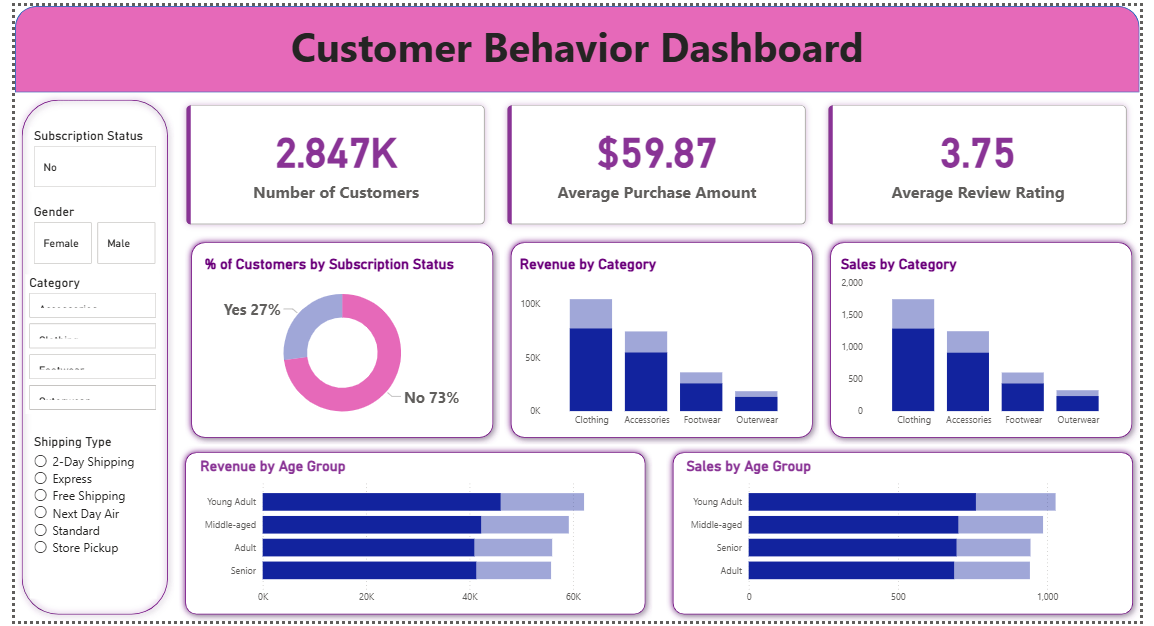

The dashboard page shown, as its layout file describes it:
{"tool":"powerbi","page":{"name":"Page 1","canvas":[1500,820],"ordinal":0},"visuals":[{"type":"cardVisual","fields":{"Data":["public customer.Number of Customers","public customer.Average Purchase Amount","public customer.Average Review Rating"]},"box":[212.9,115.3,1286.5,191.6],"z":2000},{"type":"shape","box":[218.3,585.6,631.7,234.2],"z":2500,"group":"g1"},{"type":"shape","box":[0,0,1499.4,115.3],"z":3000},{"type":"textbox","box":[0,12.4,1499.4,102.9],"z":4000},{"type":"shape","box":[225.4,307,420.5,278.6],"z":5000},{"type":"donutChart","title":"% of Customers by Subscription Status","fields":{"Category":["public customer.subscription_status"],"Y":["CountNonNull(public customer.customer_id)"]},"box":[248.4,331.8,376.2,237.8],"z":6000},{"type":"shape","box":[1078.9,307,420.5,278.6],"z":7000},{"type":"shape","box":[652.1,307,420.5,278.6],"z":8000},{"type":"clusteredColumnChart","title":"Revenue by Category","fields":{"Y":["Sum(public customer.purchase_amount)"],"Category":["public customer.category"]},"box":[667.2,331.8,385.1,237.8],"z":9000},{"type":"clusteredColumnChart","title":"Sales by Category","fields":{"Y":["CountNonNull(public customer.customer_id)"],"Category":["public customer.category"]},"box":[1096.6,331.8,385.1,237.8],"z":10000},{"type":"shape","box":[0,115.3,212.9,704.5],"z":11000},{"type":"advancedSlicerVisual","fields":{"Values":["public customer.subscription_status"]},"box":[19.5,161.5,173.9,85.2],"z":12000},{"type":"advancedSlicerVisual","fields":{"Values":["public customer.gender"]},"box":[19.5,264.4,173.9,85.2],"z":13000},{"type":"advancedSlicerVisual","fields":{"Values":["public customer.category"]},"box":[14.2,358.4,179.2,186.3],"z":14000},{"type":"listSlicer","fields":{"Values":["public customer.shipping_type"]},"box":[19.5,569.6,168.6,220],"z":15000},{"type":"shape","box":[867.7,585.6,631.7,234.2],"z":16000},{"type":"clusteredBarChart","title":"Sales by Age Group","fields":{"Y":["CountNonNull(public customer.customer_id)"],"Category":["public customer.age_group"]},"box":[890.8,601.5,585.6,204.1],"z":17000},{"type":"clusteredBarChart","title":"Revenue by Age Group","fields":{"Y":["Sum(public customer.purchase_amount)"],"Category":["public customer.age_group"]},"box":[241.4,601.6,585.6,204.1],"z":17500,"group":"g1"},{"type":"group","id":"g1","title":"Group 1","box":[218.3,585.6,631.7,234.2],"z":17501}]}

Visuals, with their boxes in screenshot pixels (x1, y1, x2, y2), scaled from the page's 1500x820 canvas onto the 1154x626 screenshot:
cardVisual - public customer.Number of Customers x public customer.Average Purchase Amount: [164,88,1153,234]
shape: [168,447,654,625]
shape: [0,0,1153,88]
textbox: [0,9,1153,88]
shape: [173,234,497,447]
"% of Customers by Subscription Status" donutChart: [191,253,481,435]
shape: [830,234,1153,447]
shape: [502,234,825,447]
"Revenue by Category" clusteredColumnChart: [513,253,810,435]
"Sales by Category" clusteredColumnChart: [844,253,1140,435]
shape: [0,88,164,625]
advancedSlicerVisual - public customer.subscription_status: [15,123,149,188]
advancedSlicerVisual - public customer.gender: [15,202,149,267]
advancedSlicerVisual - public customer.category: [11,274,149,416]
listSlicer - public customer.shipping_type: [15,435,145,603]
shape: [668,447,1153,625]
"Sales by Age Group" clusteredBarChart: [685,459,1136,615]
"Revenue by Age Group" clusteredBarChart: [186,459,636,615]
"Group 1" group: [168,447,654,625]
